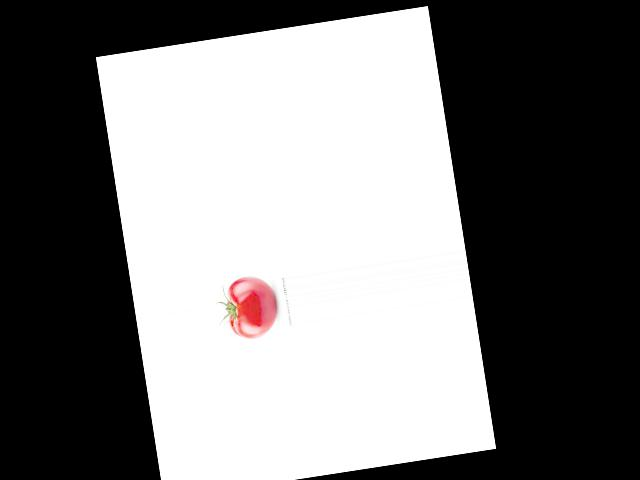tomato: (223, 272, 280, 341)
